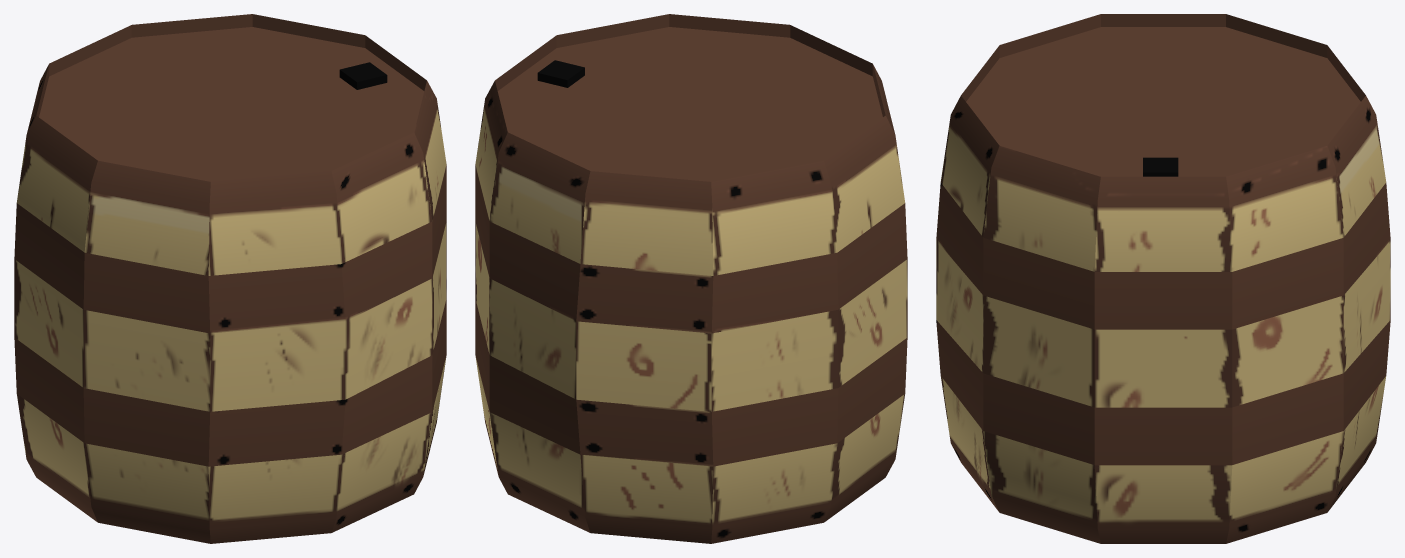
File: бочка 2.fbx
3 views of the same model, side by side, from view 1: azimuth 30°, elevation 25°; view 2: azimuth 150°, elevation 25°; view 3: azimuth 270°, elevation 25° (orthographic).
Parts seen in each view (by area): view 1: Цилиндр.001; view 2: Цилиндр.001; view 3: Цилиндр.001.
Boxes of the visible parts, x1=… form: Цилиндр.001: x1=14, y1=14, x2=446, y2=543; Цилиндр.001: x1=475, y1=14, x2=907, y2=543; Цилиндр.001: x1=936, y1=14, x2=1390, y2=543.
Size of the model in its own units: 2.1 by 2 by 2.24.
